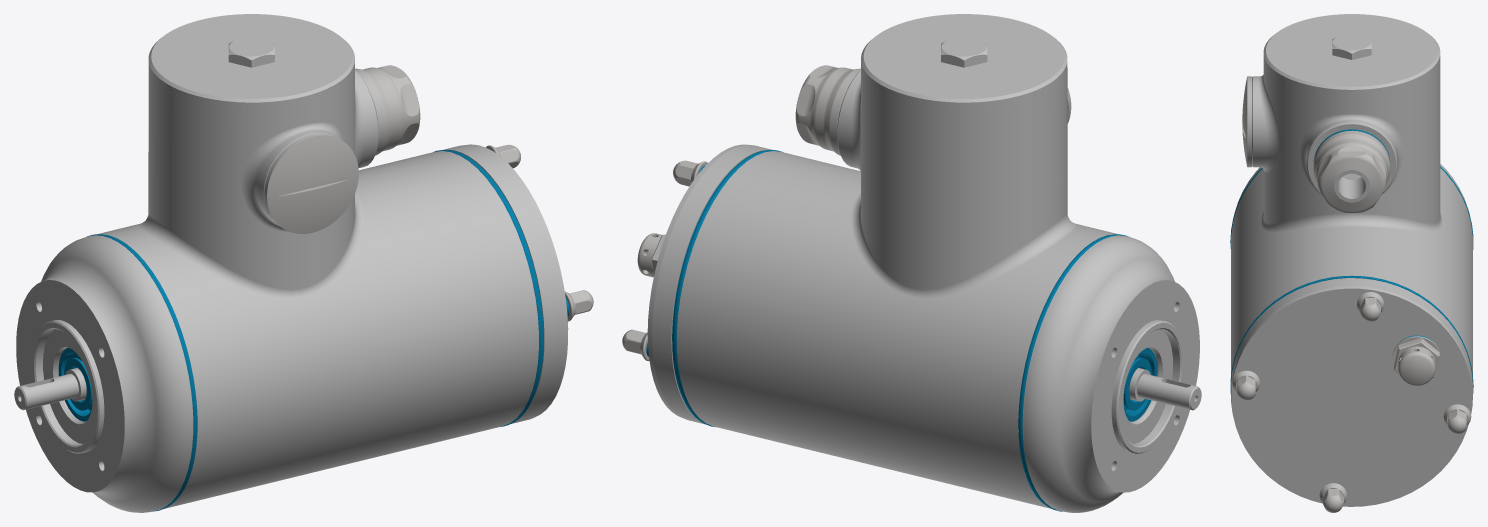
Rendered from iMotor.glb.
3 renders of one model, left to right at view 1: azimuth 30°, elevation 25°; view 2: azimuth 150°, elevation 25°; view 3: azimuth 270°, elevation 25°, orthographic. The views are drawn at different scales.
Parts seen in each view (by area): view 1: Solid1 (×8), Solid2 (×2), Solid3; view 2: Solid1 (×8), Solid2 (×2), Solid3; view 3: Solid1 (×12), Solid2 (×2).
Part boxes in pixels (x1,y1,x2,y2): Solid1 (×8): (14, 65, 568, 512); Solid2 (×2): (138, 14, 378, 298); Solid3: (58, 347, 92, 421); Solid1 (×8): (637, 65, 1201, 512); Solid2 (×2): (837, 14, 1077, 298); Solid3: (1123, 348, 1157, 421); Solid1 (×12): (1230, 76, 1473, 512); Solid2 (×2): (1252, 14, 1442, 232).
Size of the model in its own units: 0.2183 by 0.1719 by 0.1044.
